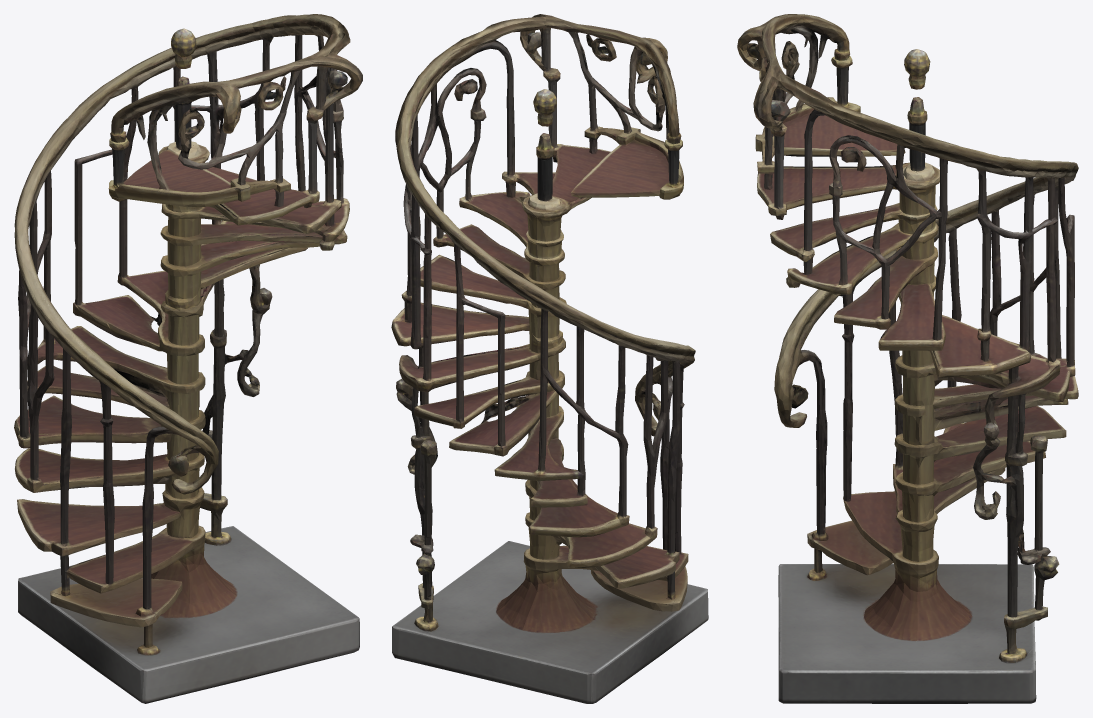
The model's file is spiral_stair.glb.
3 views of the same model, side by side, from view 1: azimuth 30°, elevation 25°; view 2: azimuth 150°, elevation 25°; view 3: azimuth 270°, elevation 25° (orthographic). The views are drawn at different scales.
Visible parts, largest first — view 1: world; view 2: world; view 3: world.
Boxes of the visible parts, x1,y1,x2,y2 form: world: (14, 14, 362, 703); world: (391, 14, 708, 703); world: (737, 14, 1078, 703).
Bounding box in the file's own units: 0.4892 × 1 × 0.5053.
1 material, 1 textured.
